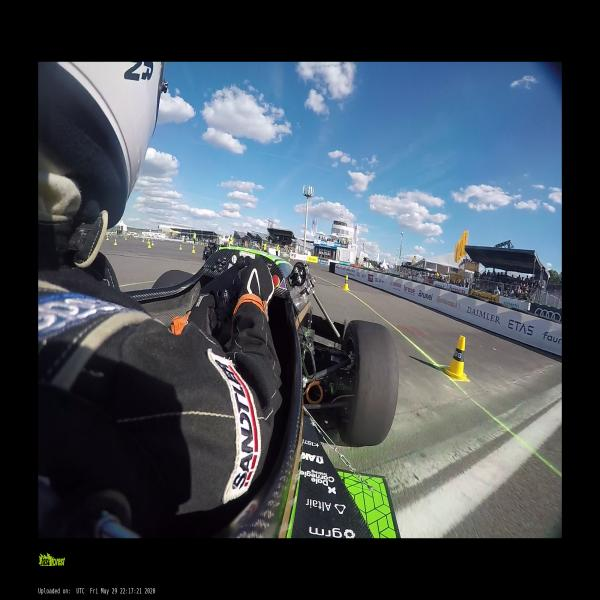yellow_cone: (444, 335, 470, 381), (341, 274, 350, 290), (112, 239, 118, 245), (190, 245, 195, 252), (178, 244, 183, 250), (148, 242, 151, 248), (141, 239, 145, 242), (106, 236, 108, 240), (152, 241, 153, 246)
